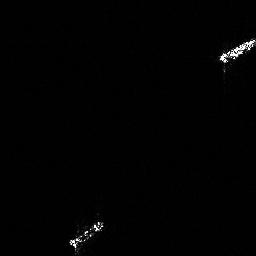ship: (66, 217, 108, 256), (217, 36, 256, 66)
